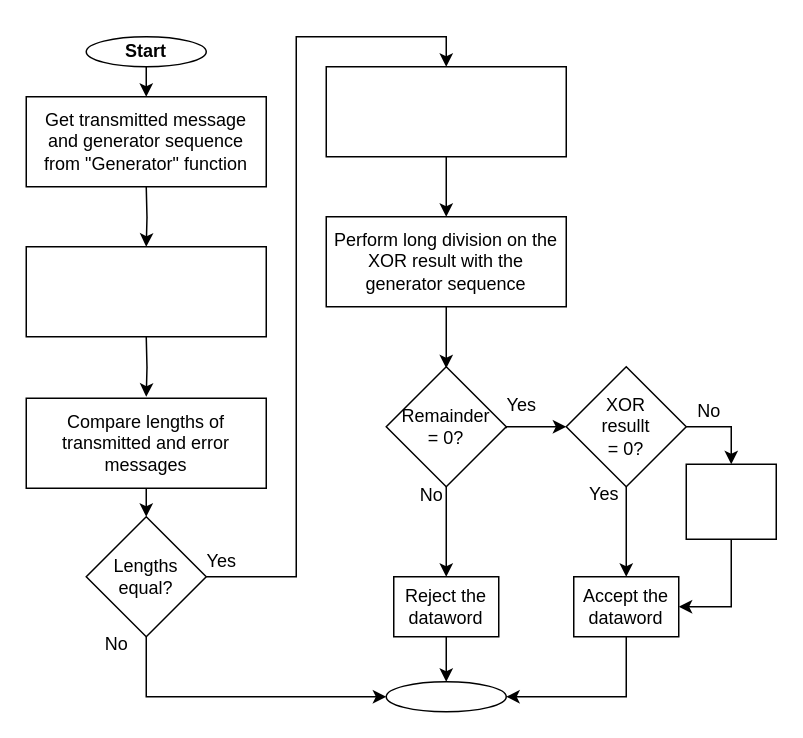
This 803x738 diagram has some shape labels left out. The box of each missing label's shape, as (x1, y1, x2, y2) in pixels:
Finish: (385, 680, 506, 712)
Output error locations: (685, 463, 776, 539)
Perform bitwise XOR on transmitted and error messages: (325, 65, 566, 157)
Prompt the user for (k+n)-bit error message: (25, 245, 266, 337)
